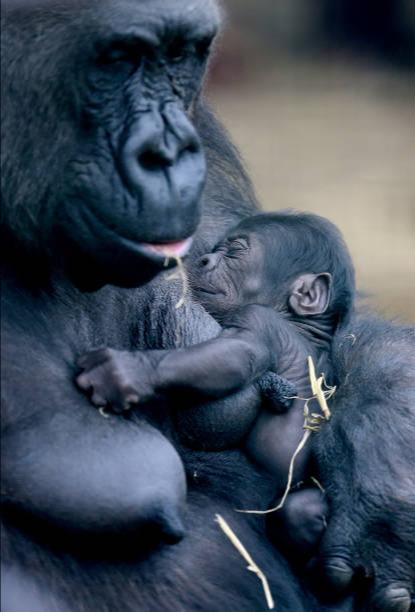gorille_Autres: (2, 0, 220, 361)
